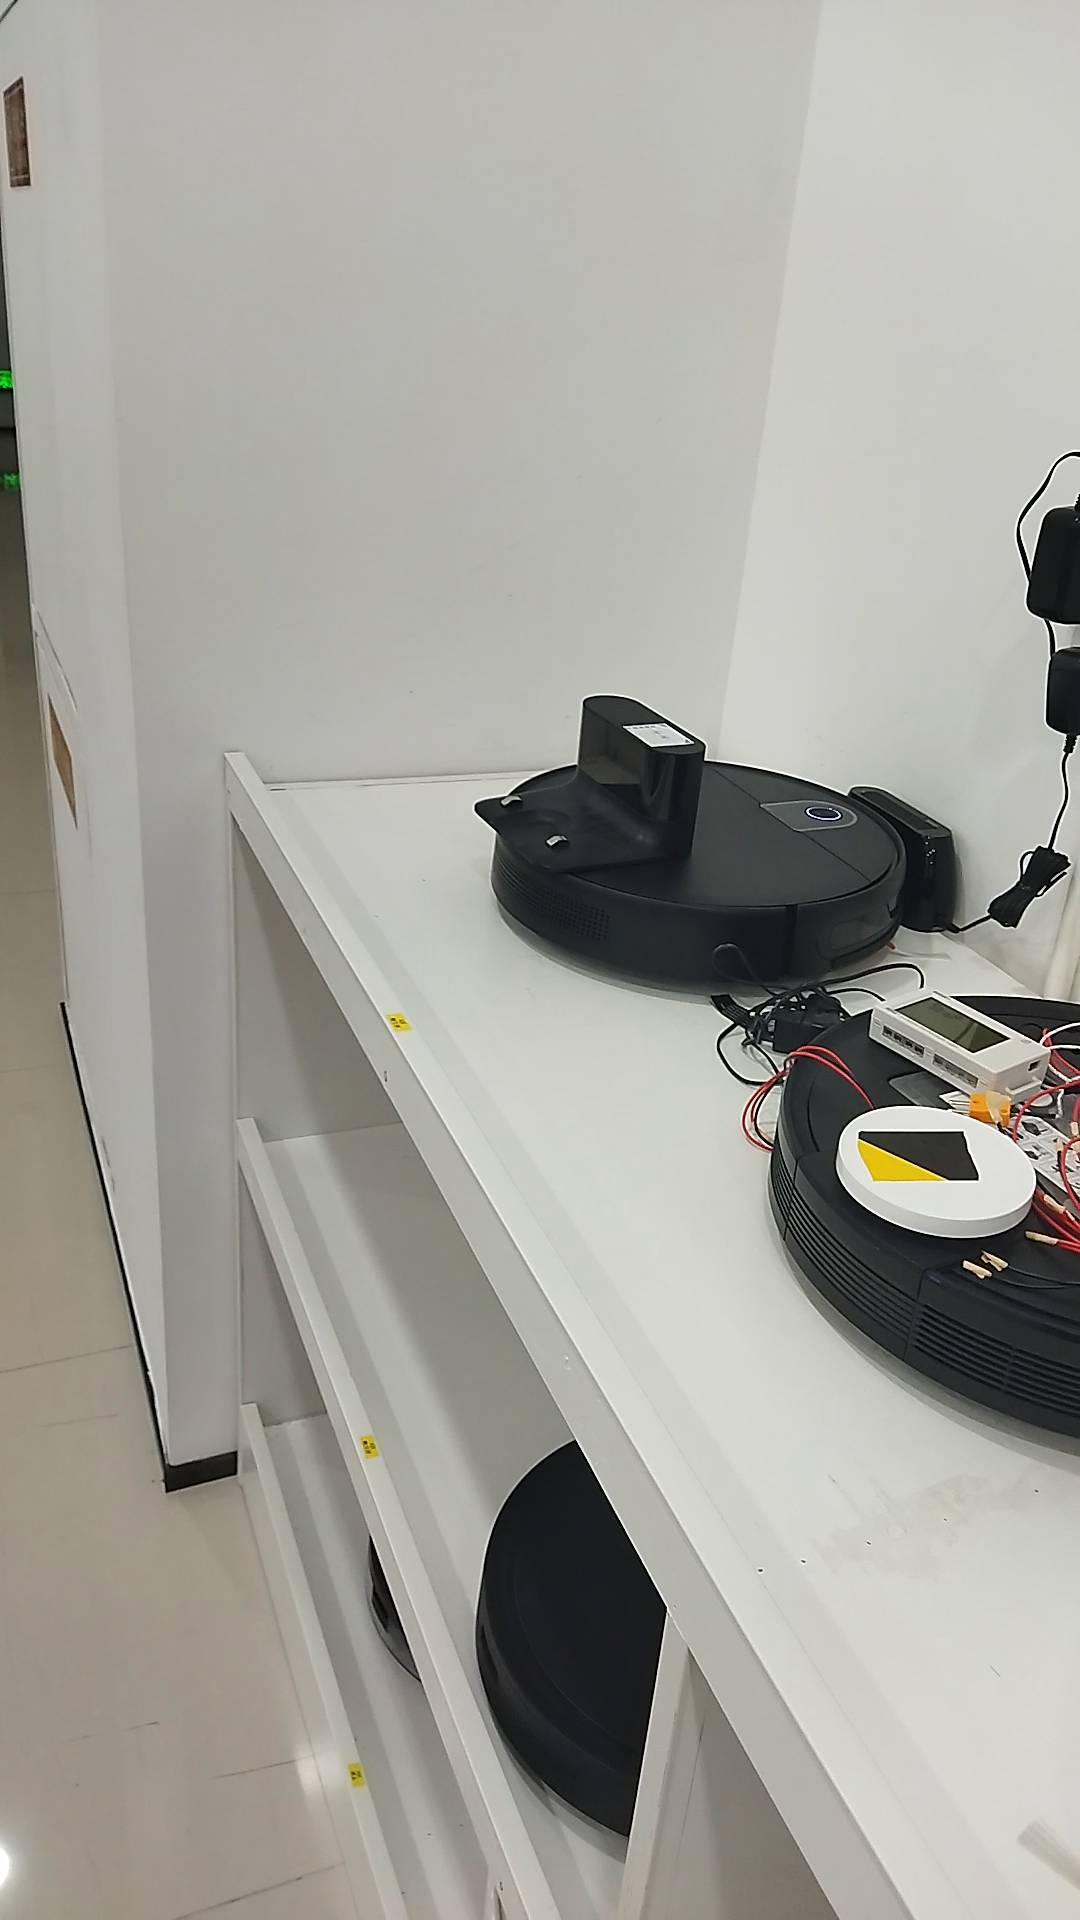recharge seat: (476, 694, 709, 872)
